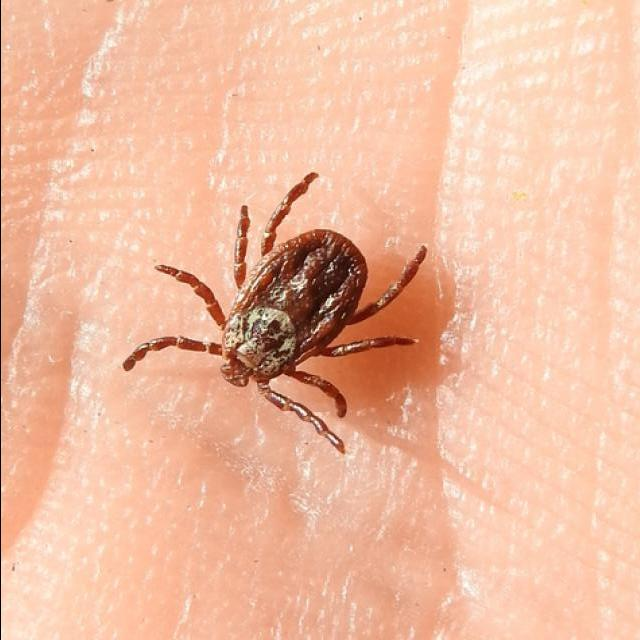Dermacentor Reticulatus-F: (123, 170, 427, 453)
